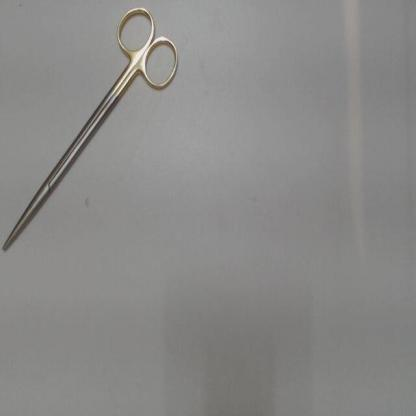7 Metzenbaum Scissors: (2, 3, 182, 254)
